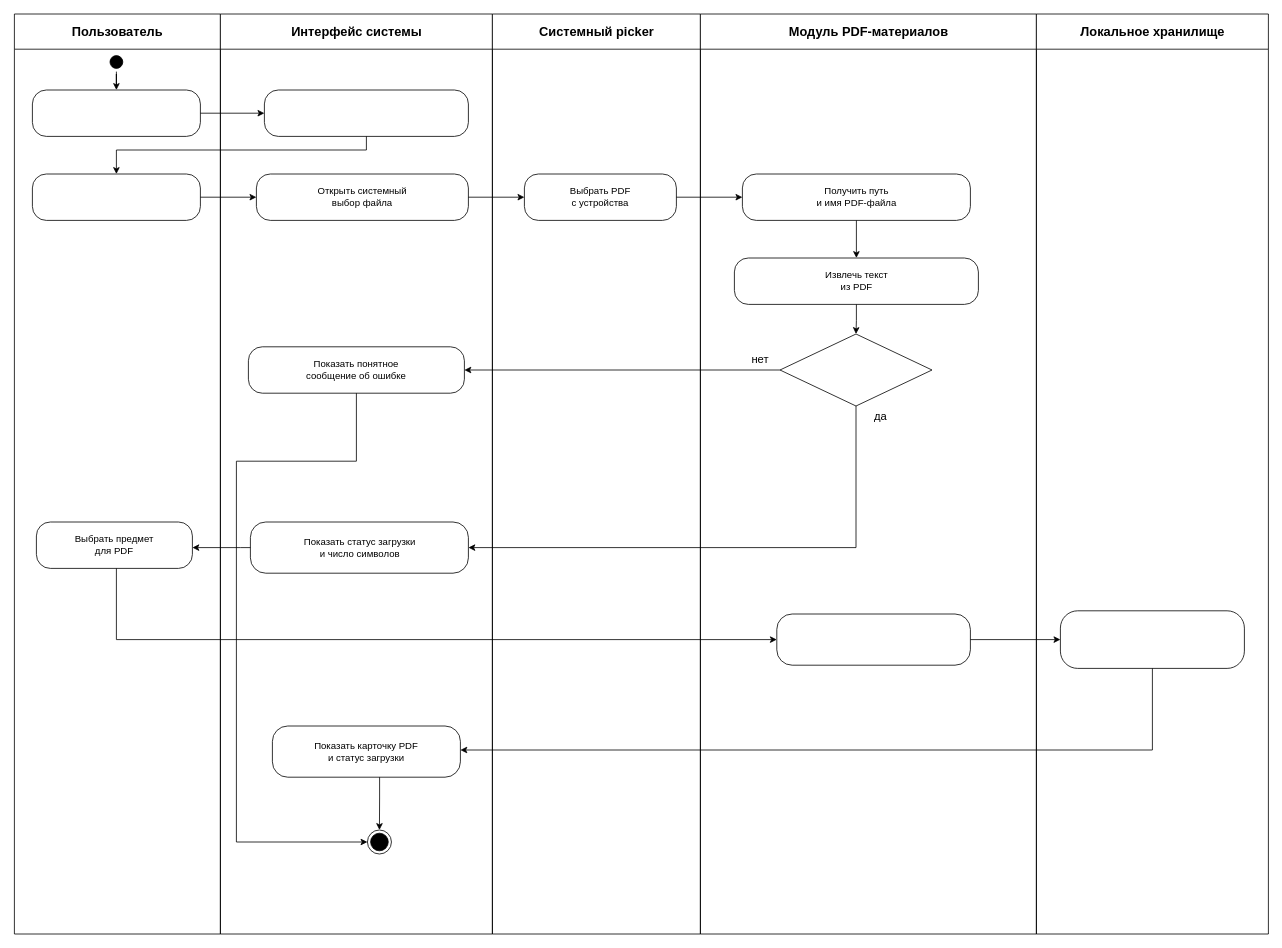
The diagram is 1282 pixels wide and 948 high, and some of its shapes have lost their labels. The centre of each missing label's shape, as x and y in pixels:
"Нажать «Загрузить PDF»" goes at point (116, 196).
"Открыть PDF-материалы" goes at point (116, 112).
"Показать список PDF и кнопку загрузить" goes at point (366, 112).
"Разбить текст на фрагменты для поиска" goes at point (873, 639).
"Сохранить имя файла, текст, предмет и фрагменты" goes at point (1152, 639).
"Текст извлечён?" goes at point (855, 369).
